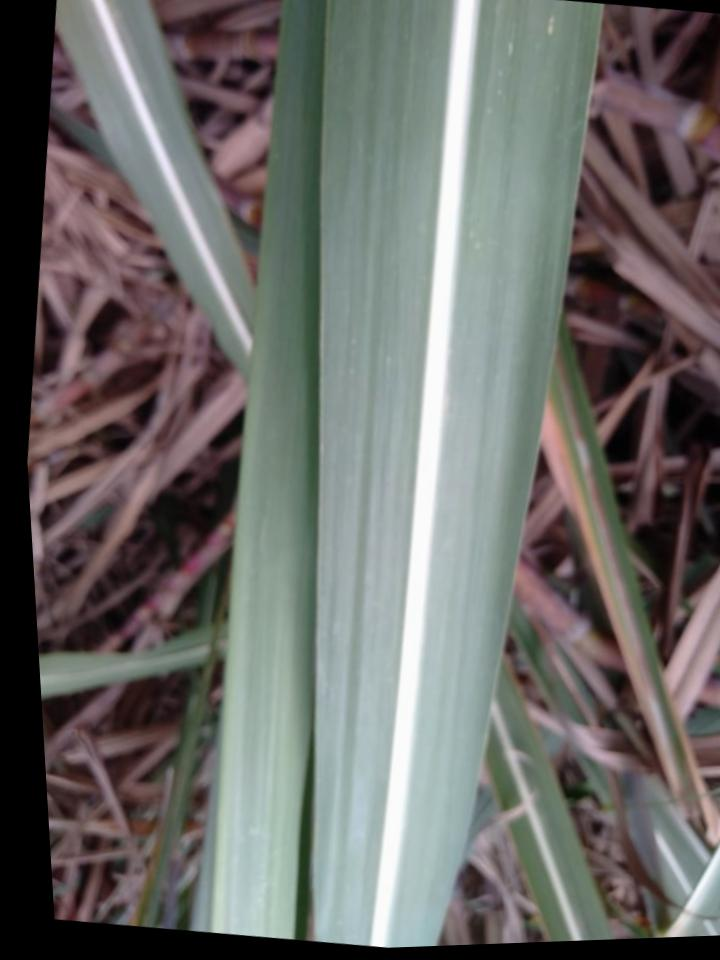Healthy: (314, 0, 599, 948), (208, 0, 326, 939), (56, 0, 255, 382)
